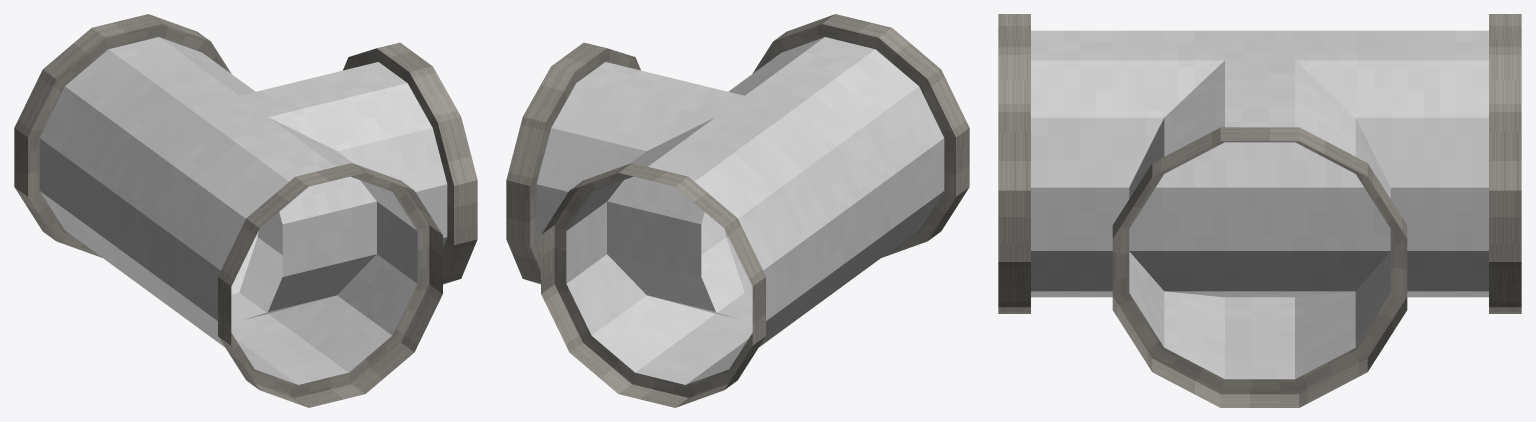
Rendered from connection_44.obj.
3 renders of one model, left to right at view 1: azimuth 30°, elevation 25°; view 2: azimuth 150°, elevation 25°; view 3: azimuth 270°, elevation 25°, orthographic. The views are drawn at different scales.
Size of the model in its own units: 0.7812 by 0.5625 by 1.
